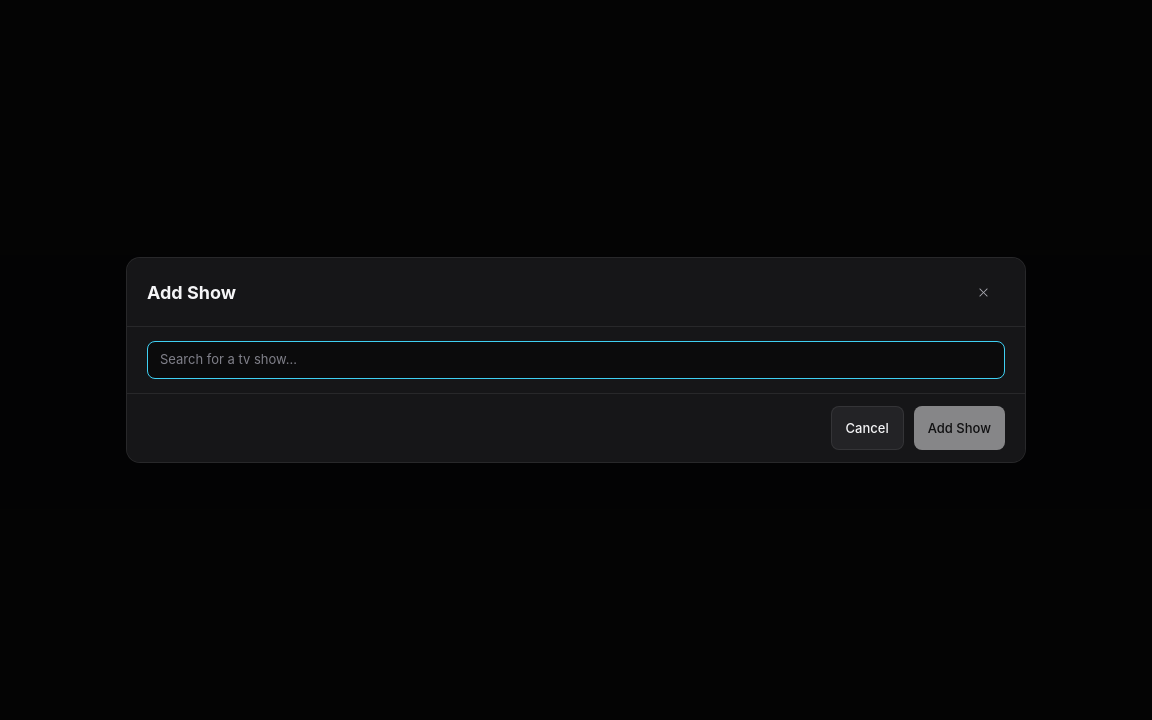
Scenario: closed Quality Profile picker: name, tier, Default tag and "Used by" text that follows the pick (criterion 6)
In the field labelled "Search for a tv show…": (576, 360) [147,341,1005,379], type "result"
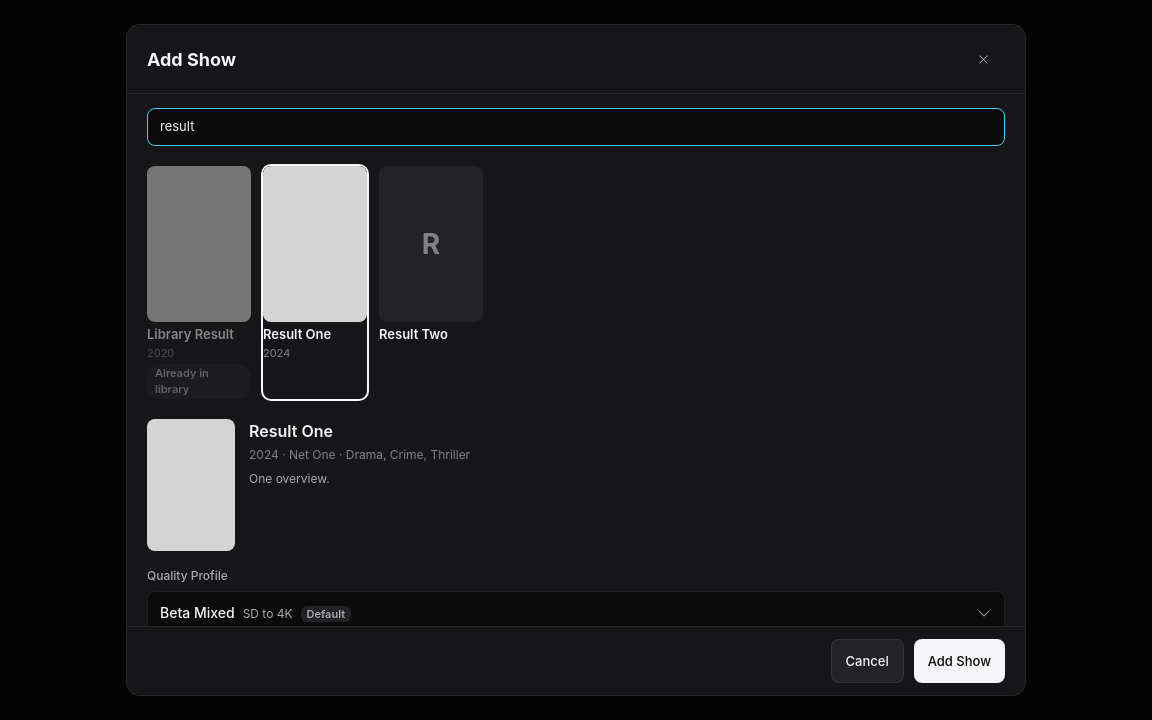
Expected: the button named "Quality Profile" shows "Beta Mixed", [147,591,1005,626]
Expected: the button named "Quality Profile" shows "SD to 4K", [147,591,1005,626]
Expected: the button named "Quality Profile" shows "Default", [147,591,1005,626]
Press ArrowDown in the button named "Quality Profile", box [147,591,1005,635]
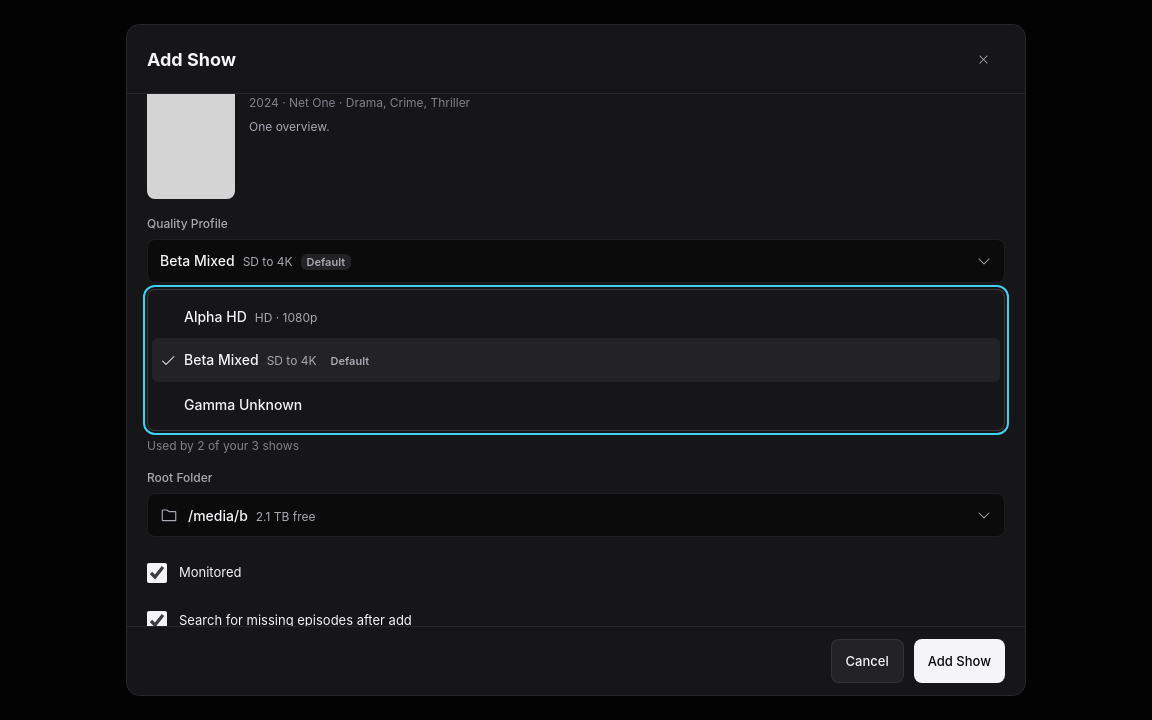
Click the option "Gamma Unknown": (243, 404) [184,396,302,413]
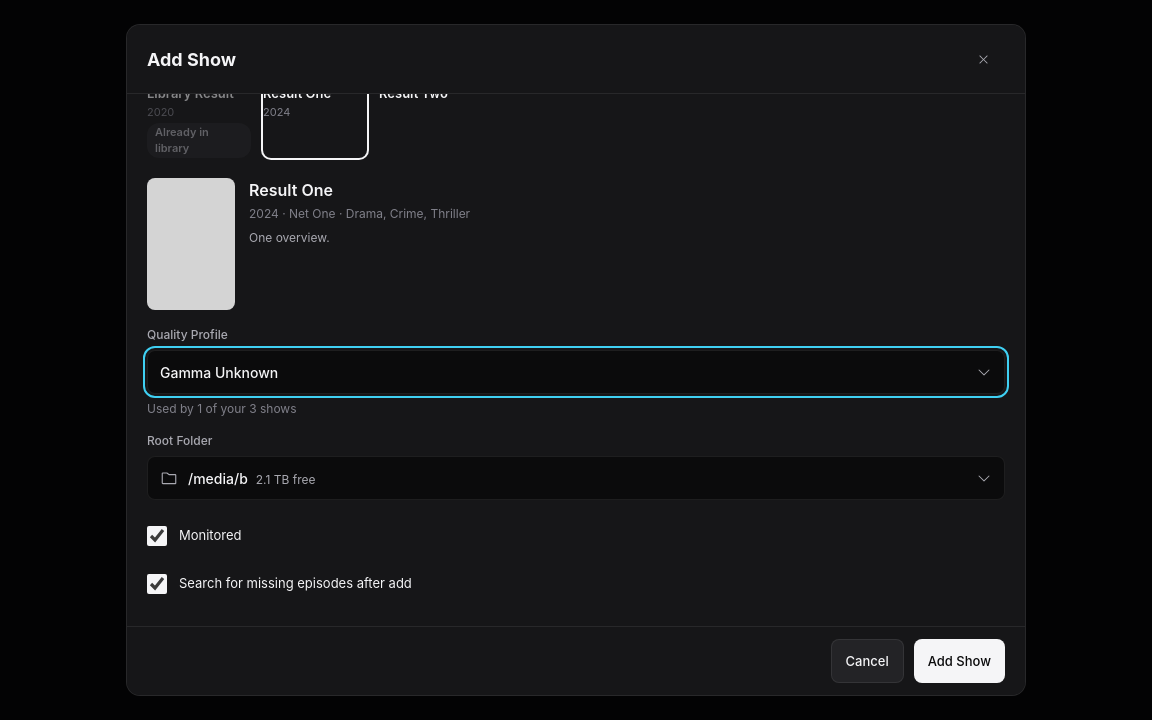
Expected: the button named "Quality Profile" reads "Gamma Unknown", [147,350,1005,394]
Expected: the button named "Quality Profile" no longer shows "Default", [147,350,1005,394]
Expected: the button named "Quality Profile" no longer shows "HD ·", [147,350,1005,394]
